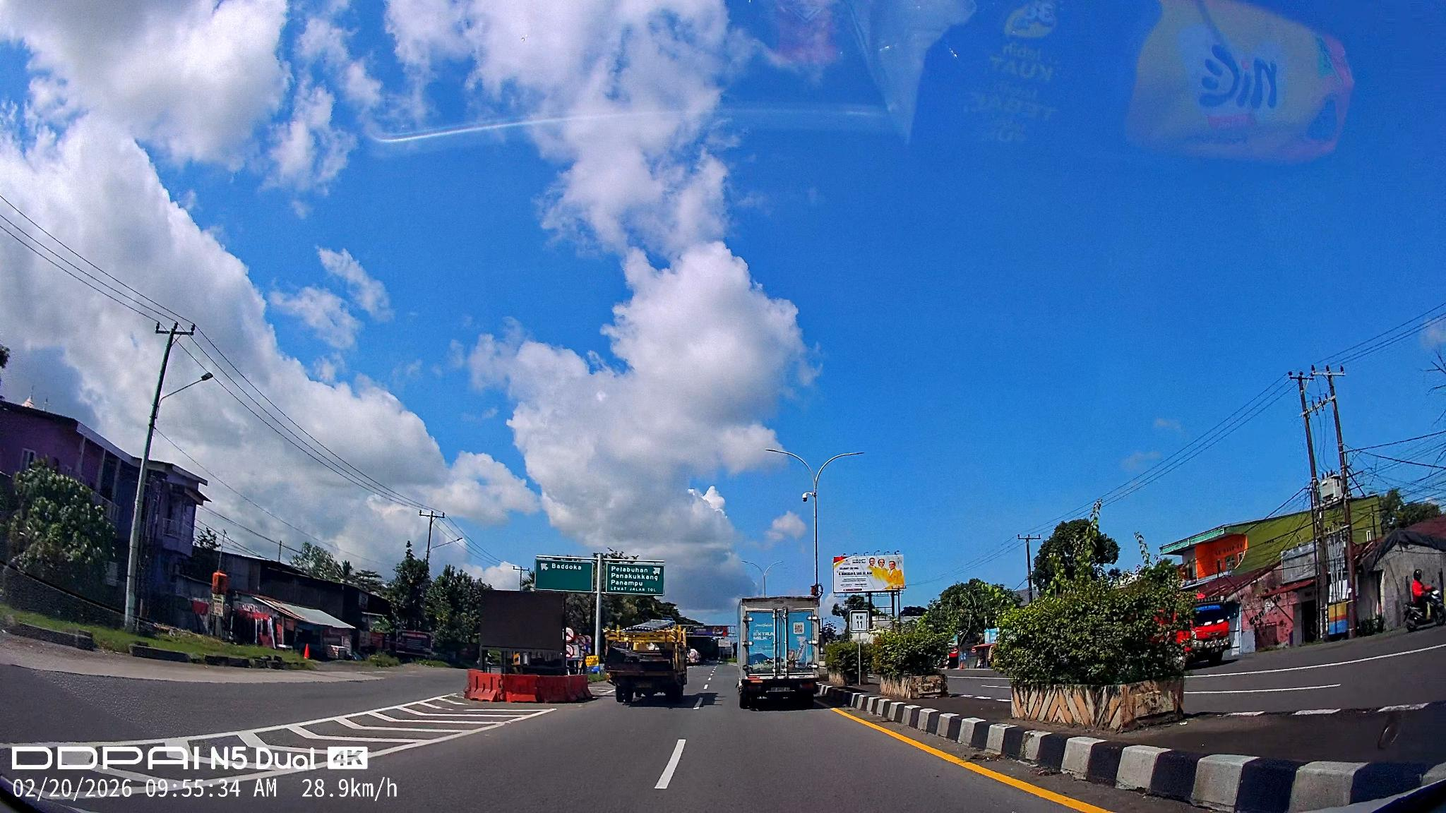rambu_teks: (534, 558, 593, 594), (606, 562, 666, 597)
